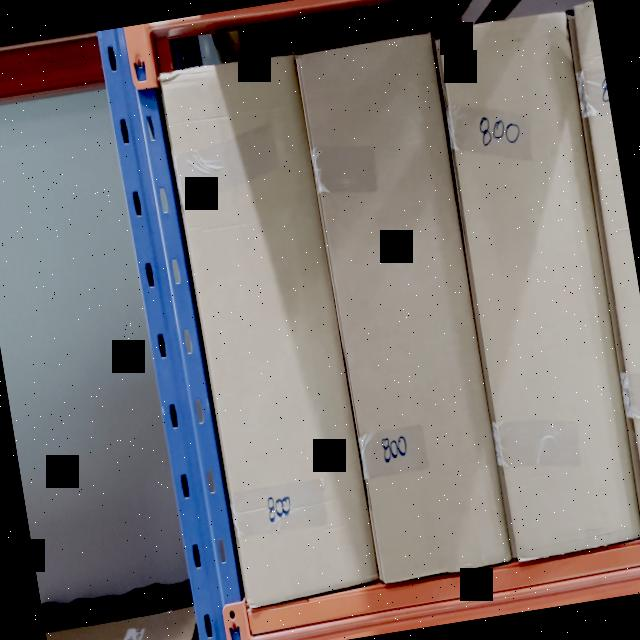box: (297, 34, 511, 580), (166, 56, 377, 602), (438, 21, 640, 556)
